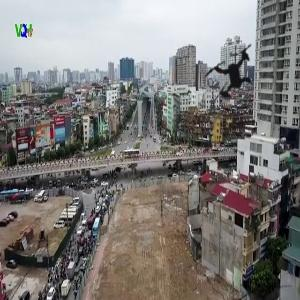drone: (184, 25, 283, 124)
